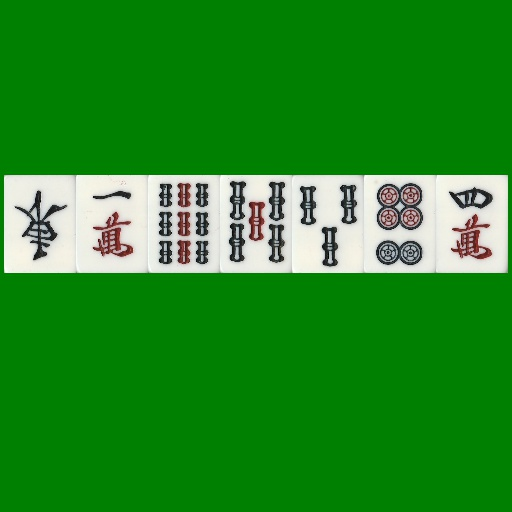1m: (76, 175, 148, 273)
3s: (292, 175, 364, 273)
4m: (436, 175, 508, 273)
5s: (220, 175, 292, 273)
6p: (364, 175, 436, 273)
9s: (148, 175, 220, 273)
east: (4, 175, 76, 273)
